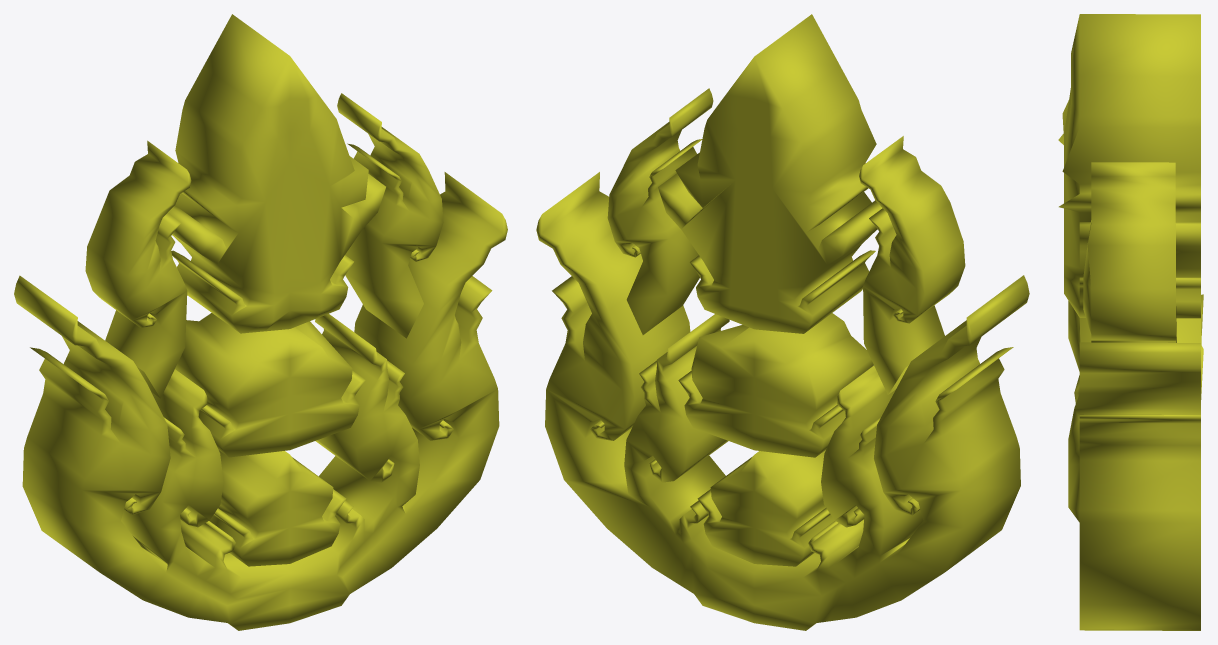
Rendered from LaiThai_KrajangYai.glb.
The picture shows the model from 3 angles, left to right: view 1: azimuth 30°, elevation 25°; view 2: azimuth 150°, elevation 25°; view 3: azimuth 270°, elevation 25°; orthographic projection. The views are drawn at different scales.
Parts seen in each view (by area): view 1: KrajankYai; view 2: KrajankYai; view 3: KrajankYai.
Part boxes in pixels (<box>): KrajankYai: <box>14,14,507,630</box>; KrajankYai: <box>536,14,1029,630</box>; KrajankYai: <box>1058,14,1203,630</box>.
Bounding box in the file's own units: 18.22 × 22.65 × 5.02.
